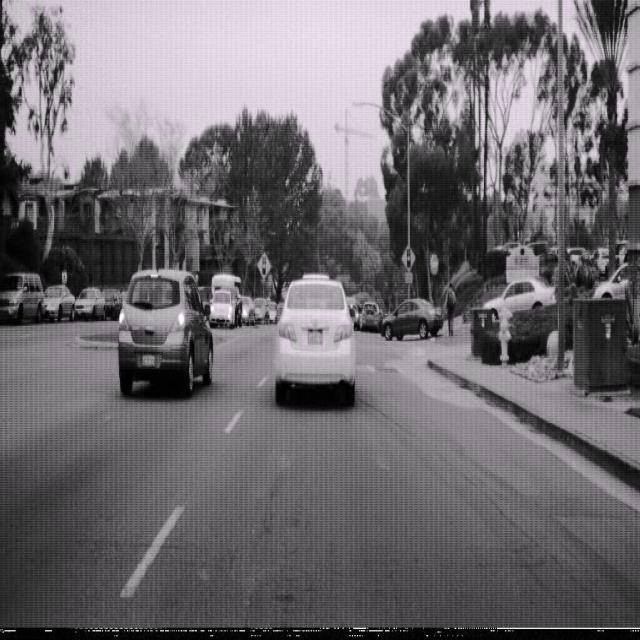stop: (429, 253, 439, 277)
